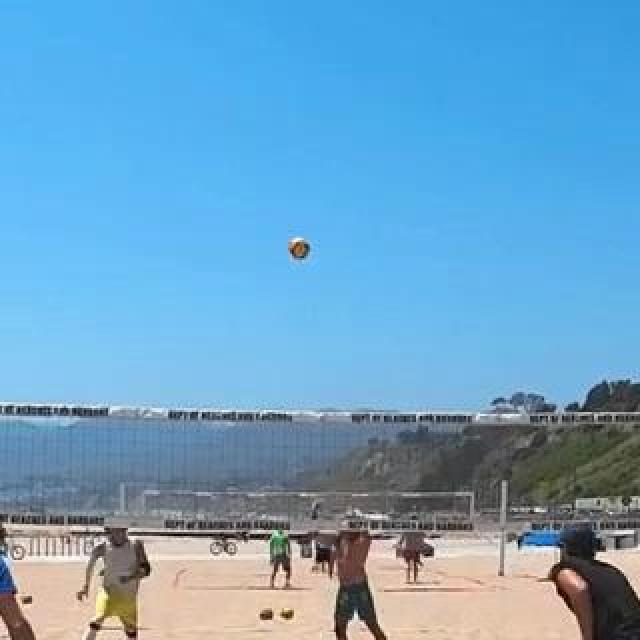volleyball: (289, 238, 313, 260), (259, 607, 273, 621), (280, 606, 294, 620), (22, 593, 34, 605)
